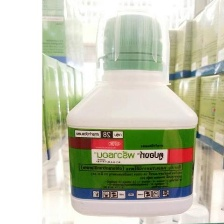insecticide: (63, 7, 200, 219)
